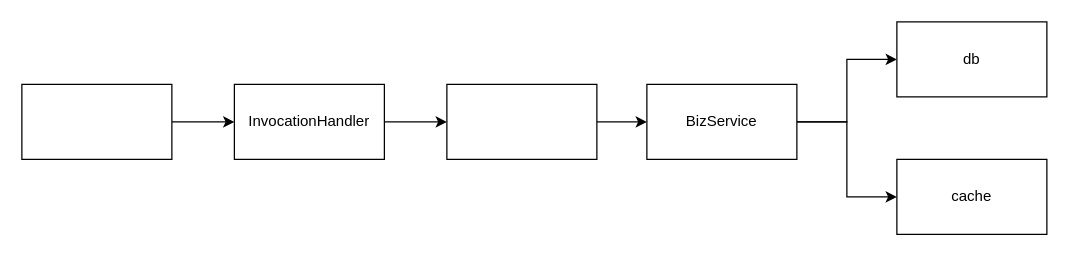
The diagram is 1069 pixels wide and 256 high, and some of its shapes have lost their labels. The centre of each missing label's shape, as x and y in pixels:
BizProcessContainer: (x=521, y=121)
factoryBean: (x=96, y=121)
